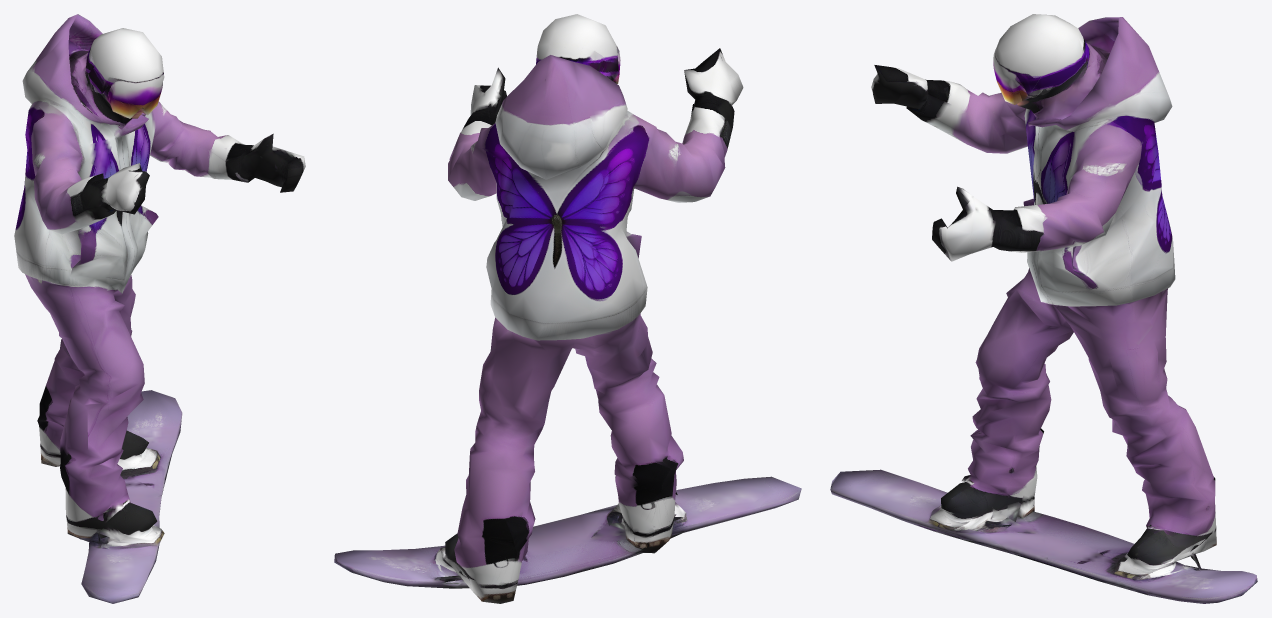
Rendered from snowboarder.glb.
The picture shows the model from 3 angles, left to right: view 1: azimuth 30°, elevation 25°; view 2: azimuth 150°, elevation 25°; view 3: azimuth 270°, elevation 25°; orthographic projection. The views are drawn at different scales.
Size of the model in its own units: 1.05 by 1.91 by 1.38.
Materials: 1 (1 with a texture image).
